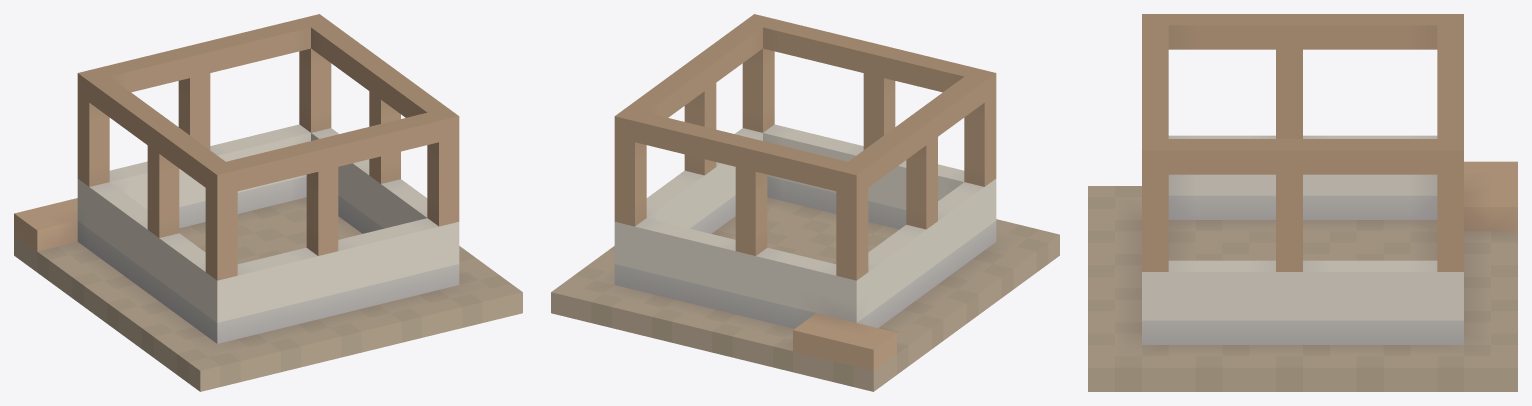
Rendered from life_stage.v1.glb.
3 views of the same model, side by side, from view 1: azimuth 30°, elevation 25°; view 2: azimuth 150°, elevation 25°; view 3: azimuth 270°, elevation 25° (orthographic). The views are drawn at different scales.
Parts seen in each view (by area): view 1: life_stage; view 2: life_stage; view 3: life_stage.
Part boxes in pixels (box(x1,y1,x2,y2)): life_stage: box(14, 14, 522, 391); life_stage: box(551, 14, 1059, 391); life_stage: box(1088, 14, 1517, 391).
Bounding box in the file's own units: 2 × 1.12 × 2.
